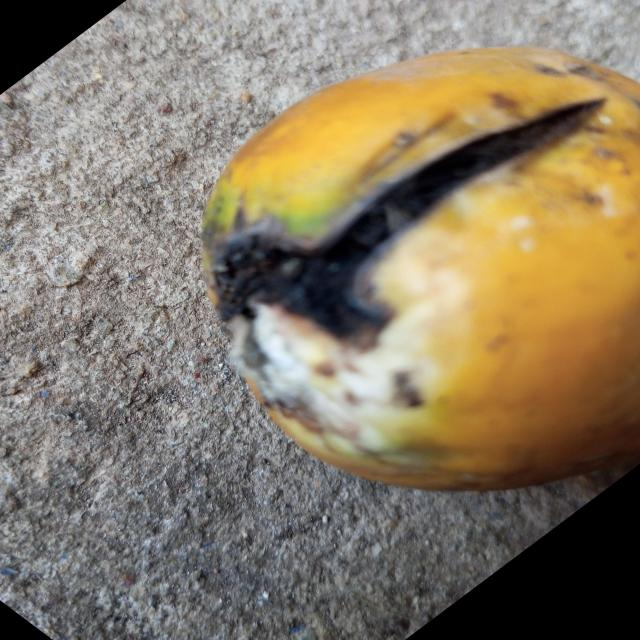damaged: (200, 46, 640, 495)
